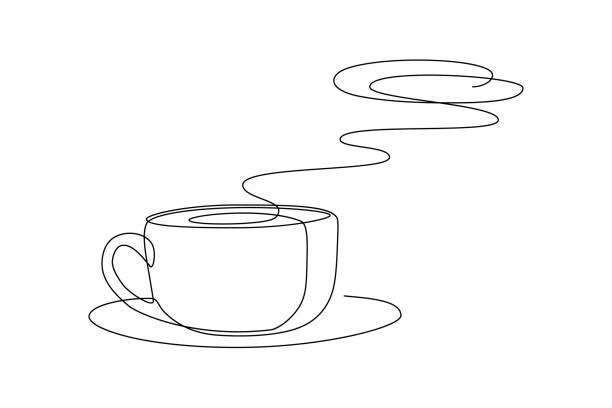cup: (36, 13, 569, 371)
